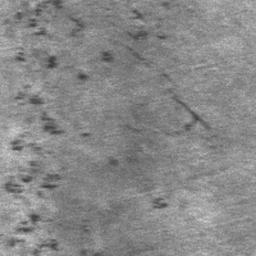Rolled in scale: (4, 0, 103, 256), (103, 0, 195, 67), (161, 73, 223, 149), (145, 187, 188, 210), (110, 157, 133, 165), (80, 133, 91, 139)
